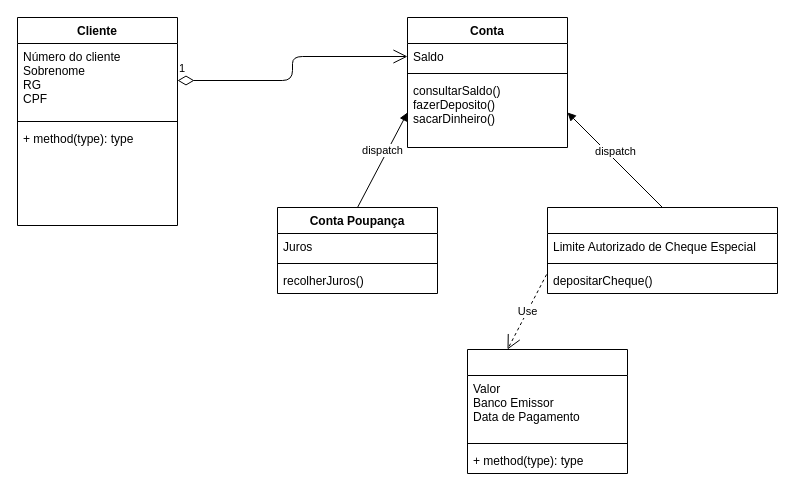
Some shapes in this 795 by 494 pixel diagram are drawn without their labels. Each missing label, with the box of its shape:
Cheque: (466, 348, 628, 474)
Conta Corrente: (546, 206, 778, 294)
